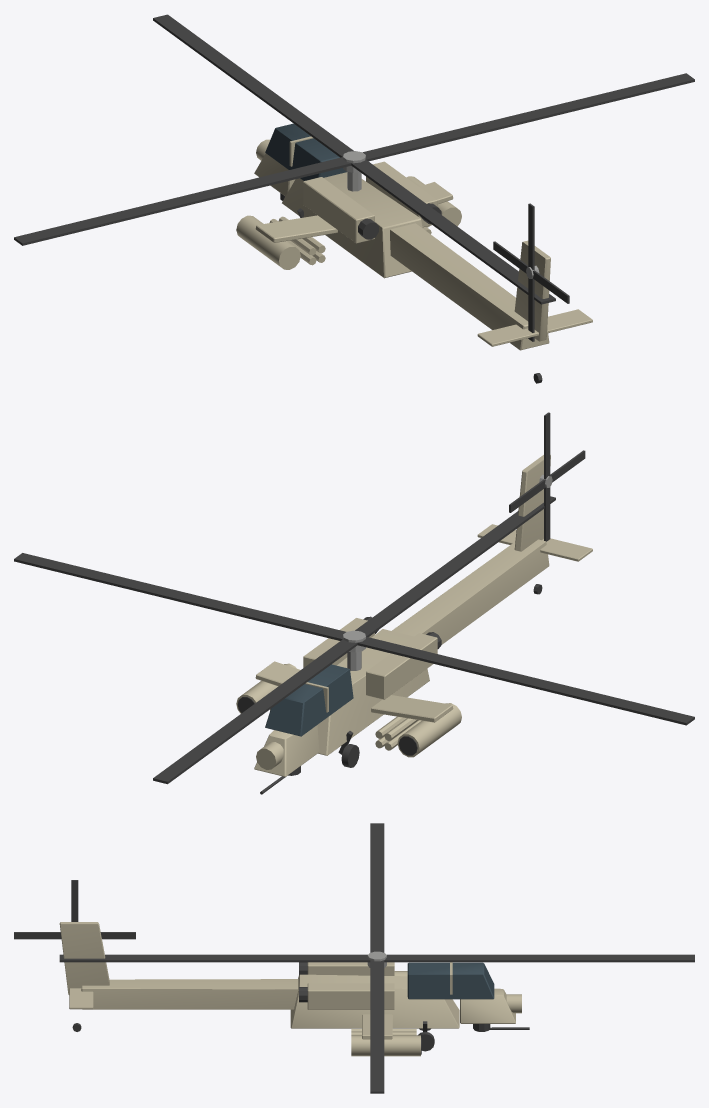
File: rus_heli_mi28n.glb
The picture shows the model from 3 angles, top to bottom: view 1: azimuth 30°, elevation 25°; view 2: azimuth 150°, elevation 25°; view 3: azimuth 270°, elevation 25°; orthographic projection. The views are drawn at different scales.
Visible parts, largest first — view 1: body, rotor, trotor; view 2: body, rotor, trotor; view 3: body, rotor, trotor.
Part boxes in pixels (bbox=[...]): body: bbox=[236, 123, 592, 383]; rotor: bbox=[14, 14, 694, 304]; trotor: bbox=[493, 203, 569, 341]; body: bbox=[236, 455, 592, 794]; rotor: bbox=[14, 496, 694, 784]; trotor: bbox=[509, 412, 585, 541]; body: bbox=[59, 922, 529, 1056]; rotor: bbox=[59, 823, 694, 1093]; trotor: bbox=[14, 880, 135, 939].
Size of the model in its own units: 14.6 by 3.97 by 15.65.
